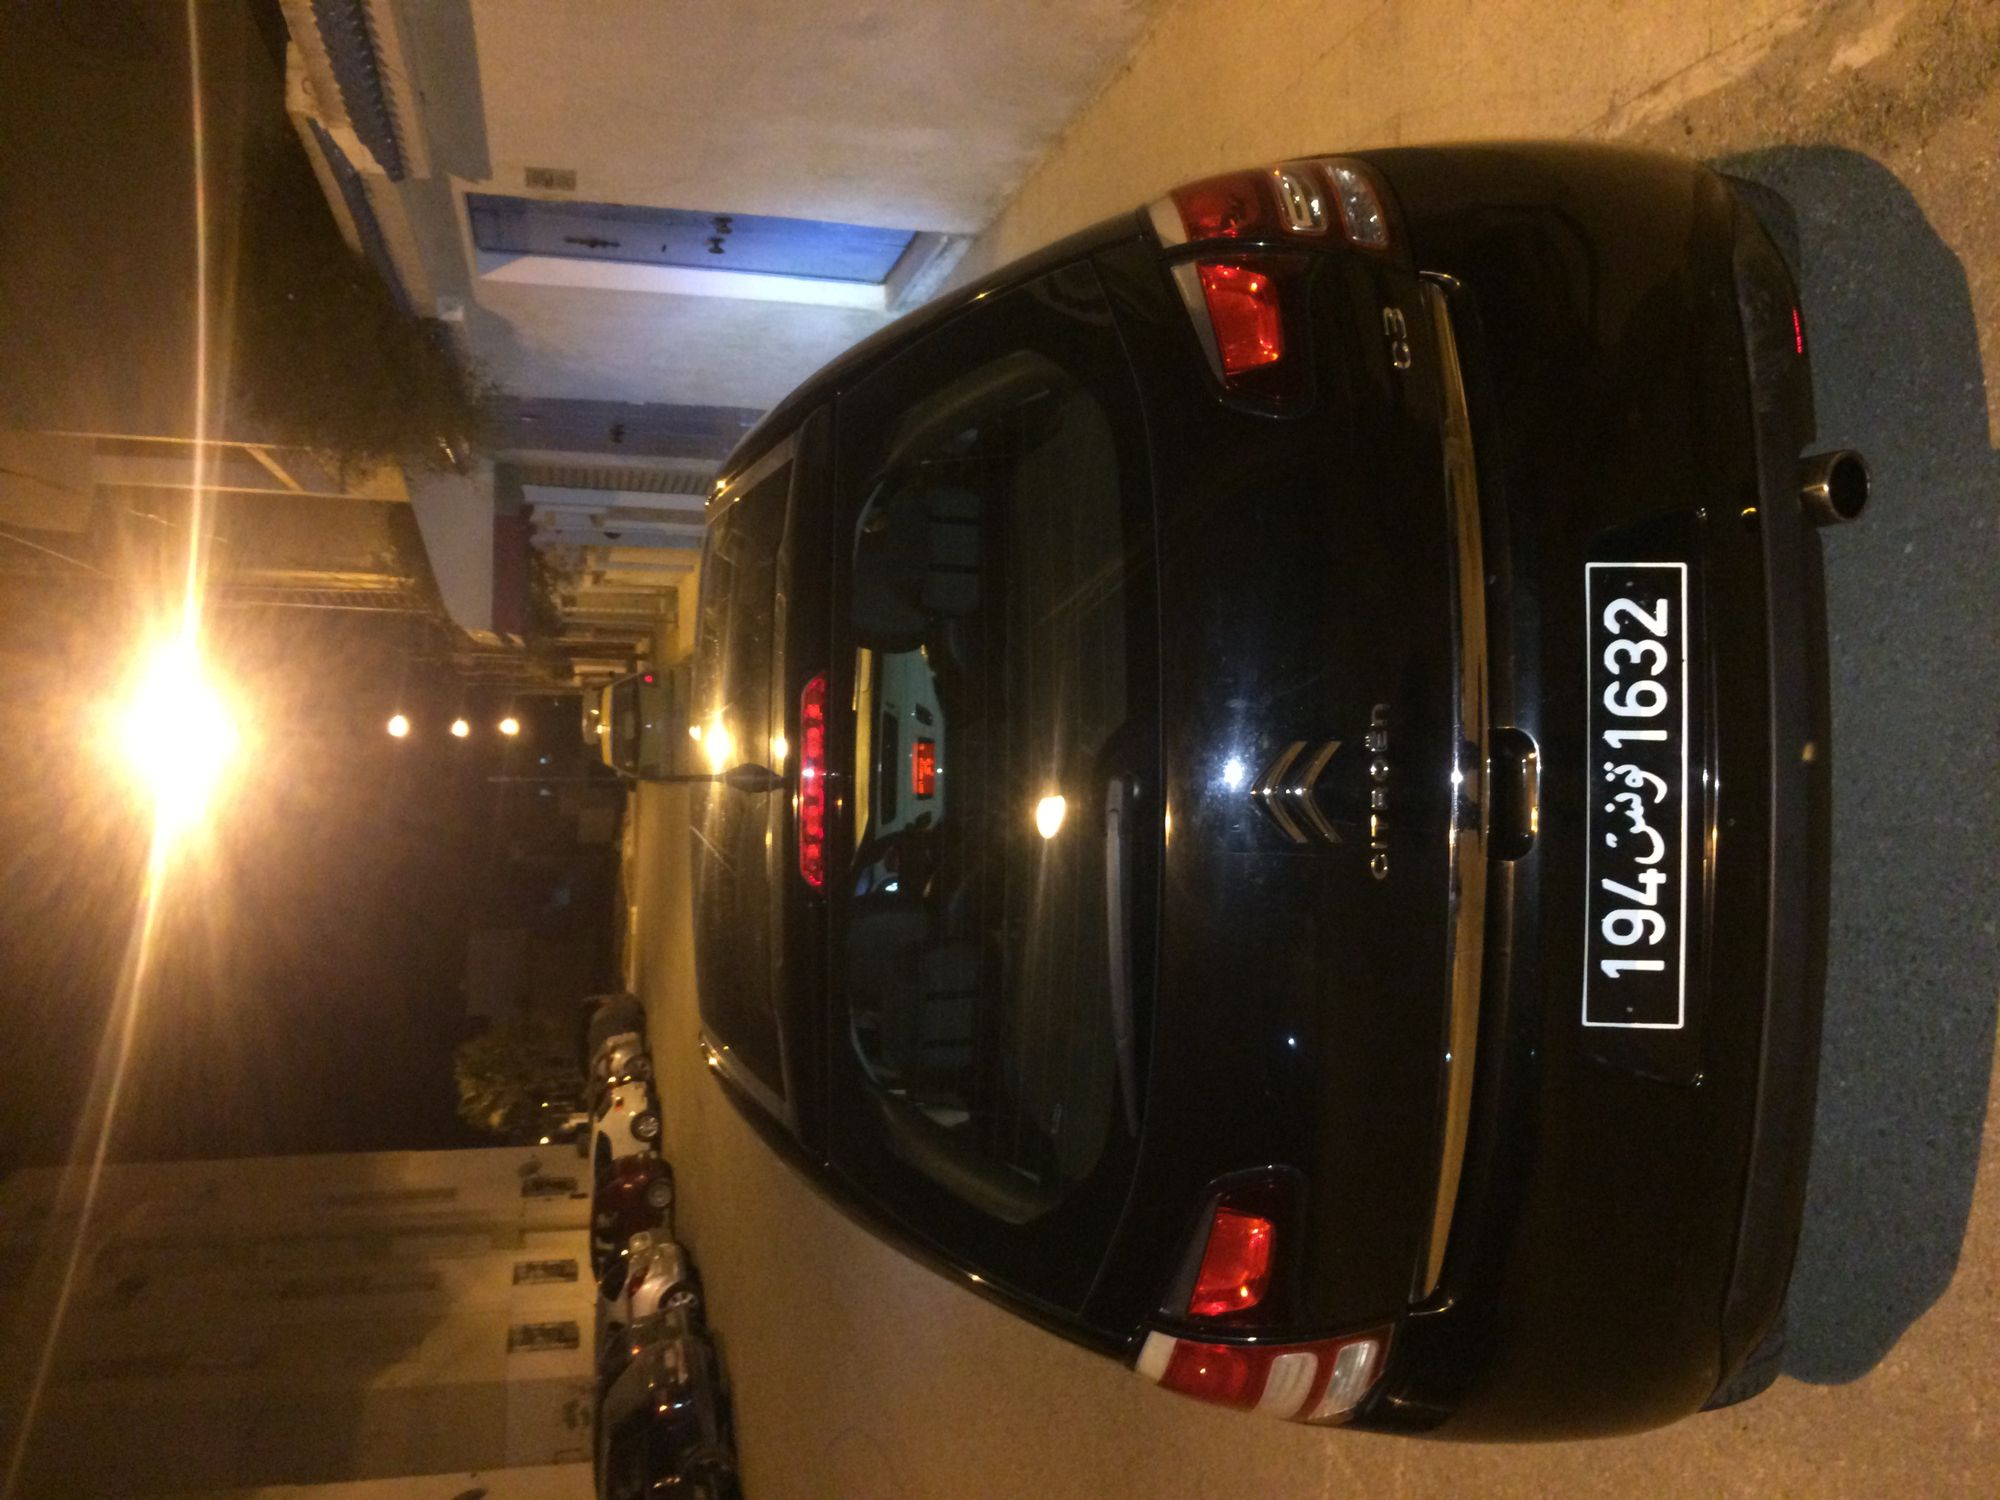LP: (1584, 559, 1694, 1049)
